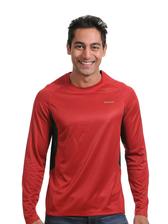clothoes: (17, 70, 151, 221)
